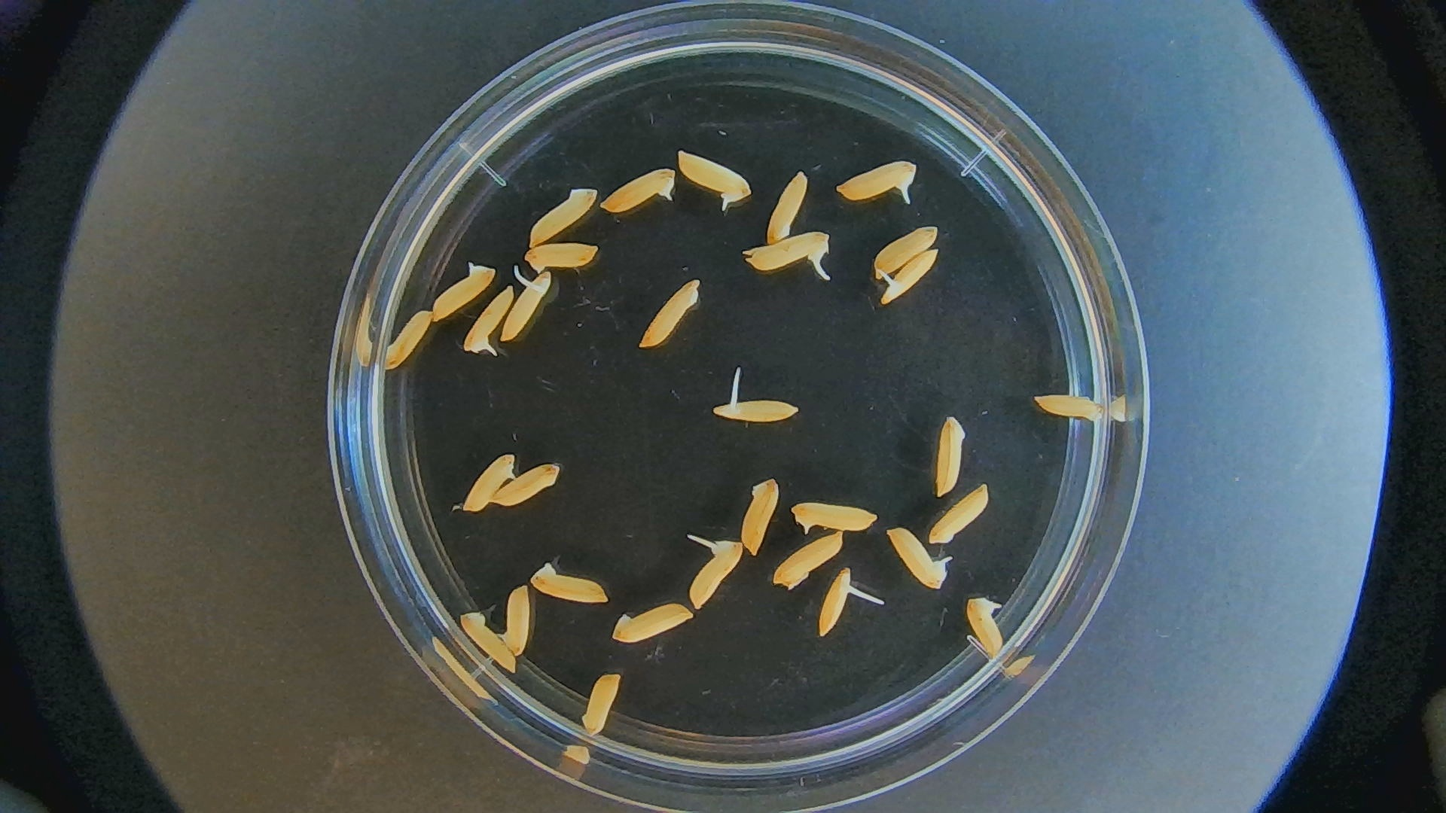no: (636, 279, 702, 349), (925, 478, 992, 546), (527, 184, 598, 248), (429, 260, 497, 326), (773, 528, 846, 589), (456, 611, 520, 675), (871, 224, 939, 283), (528, 560, 612, 607), (600, 166, 676, 215), (612, 602, 694, 645), (461, 452, 517, 513), (382, 309, 433, 374), (490, 462, 565, 506), (741, 473, 780, 557), (930, 412, 966, 500), (789, 498, 877, 534), (766, 169, 806, 246), (1030, 388, 1105, 425), (582, 671, 624, 736), (523, 242, 602, 276), (497, 584, 529, 656)
yes: (677, 147, 752, 215), (885, 523, 953, 592), (499, 264, 550, 345), (743, 227, 828, 273), (689, 532, 740, 607), (465, 285, 515, 358), (834, 157, 914, 200), (880, 251, 940, 303), (816, 567, 856, 636), (712, 391, 789, 424), (964, 598, 1004, 660)
